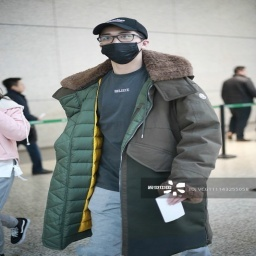correctlyWear: (96, 26, 148, 64)
noWear: (11, 80, 25, 93), (236, 68, 247, 76)
